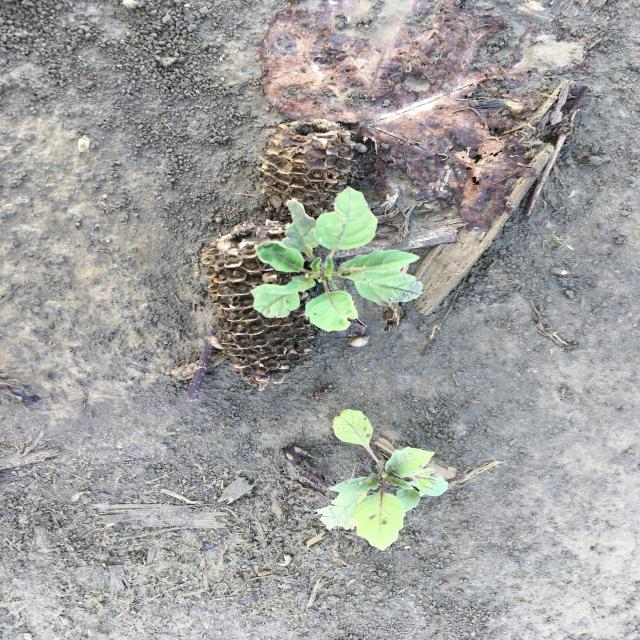CutleafGroundcherry: (248, 186, 427, 334), (313, 408, 459, 554)
